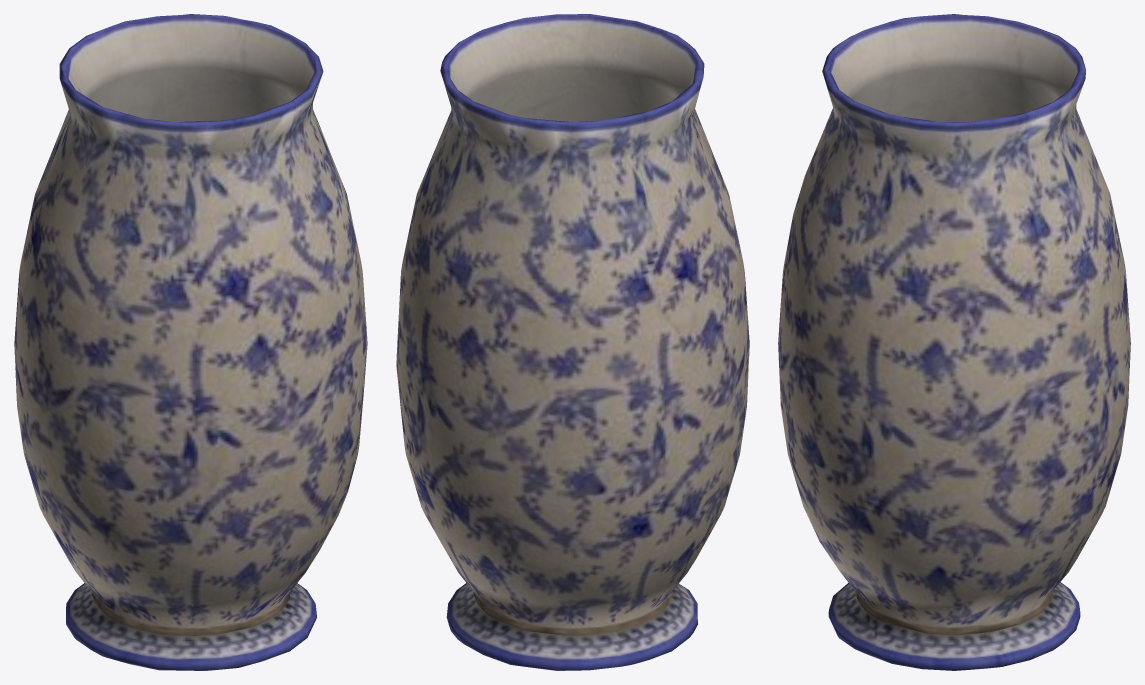
The model's file is vase.glb.
The picture shows the model from 3 angles, left to right: view 1: azimuth 30°, elevation 25°; view 2: azimuth 150°, elevation 25°; view 3: azimuth 270°, elevation 25°; orthographic projection.
Parts seen in each view (by area): view 1: antique_ceramic_vase_01; view 2: antique_ceramic_vase_01; view 3: antique_ceramic_vase_01.
Part boxes in pixels (bbox=[...]): antique_ceramic_vase_01: bbox=[14, 14, 367, 670]; antique_ceramic_vase_01: bbox=[396, 14, 749, 670]; antique_ceramic_vase_01: bbox=[778, 14, 1130, 670].
Size of the model in its own units: 0.255 by 0.4396 by 0.255.
Materials: 1 (1 with a texture image).
